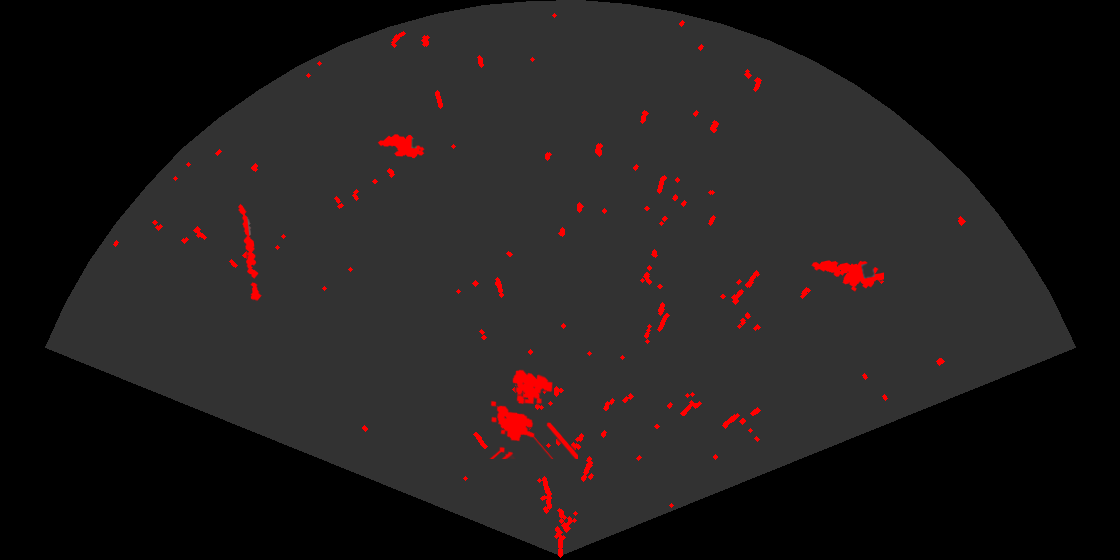AUV: (376, 133, 426, 160)
cage: (488, 368, 578, 459)
chain: (237, 202, 263, 303)
frogman: (810, 259, 884, 293)
